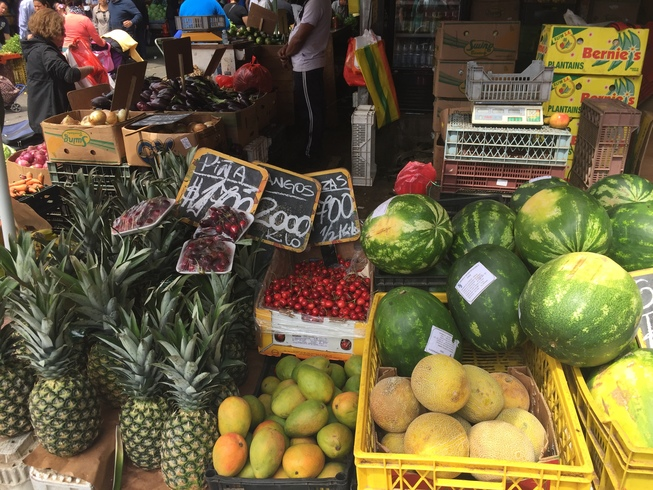precio: (170, 138, 271, 250), (245, 155, 322, 257), (300, 161, 366, 247)
